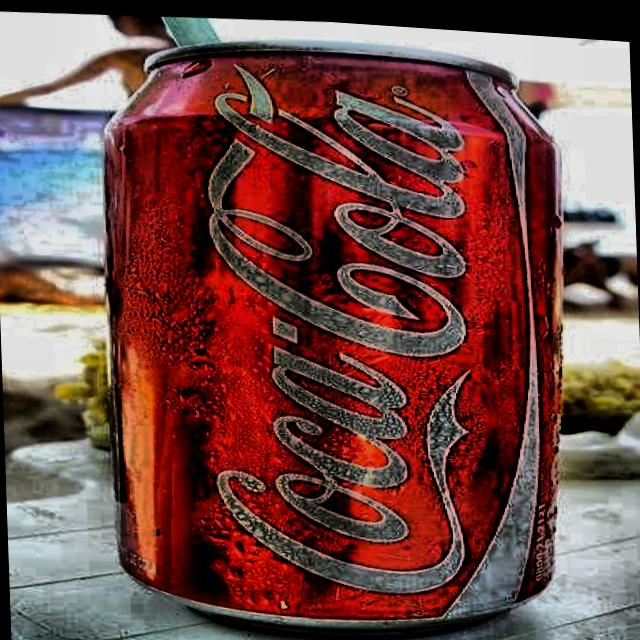Cans: (70, 4, 596, 640)
